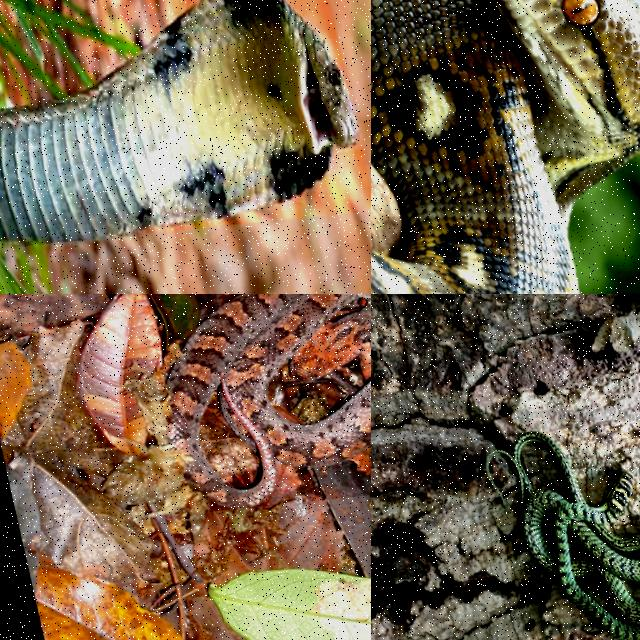Chrysopelea ornata: (485, 432, 639, 639)
Malayopython reticulatus: (371, 0, 639, 293)
Ophiophagus hannah: (0, 0, 357, 241)
Ovophis monticola: (166, 294, 370, 507)
